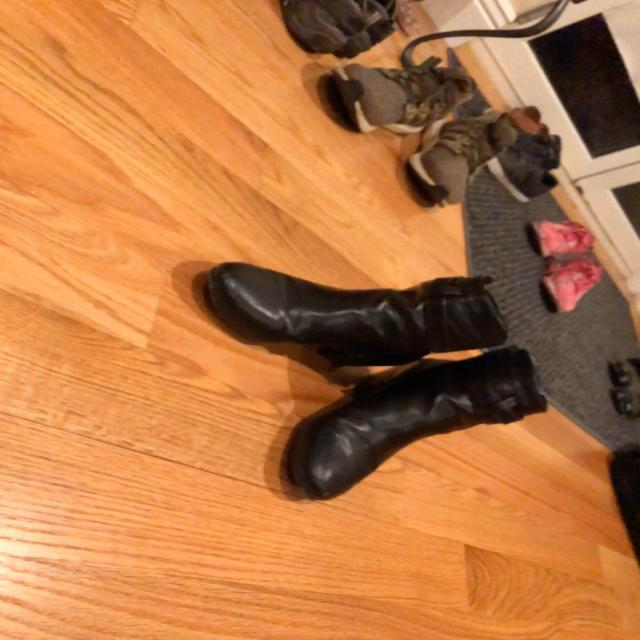shoe: (291, 348, 580, 508), (216, 270, 505, 351)
